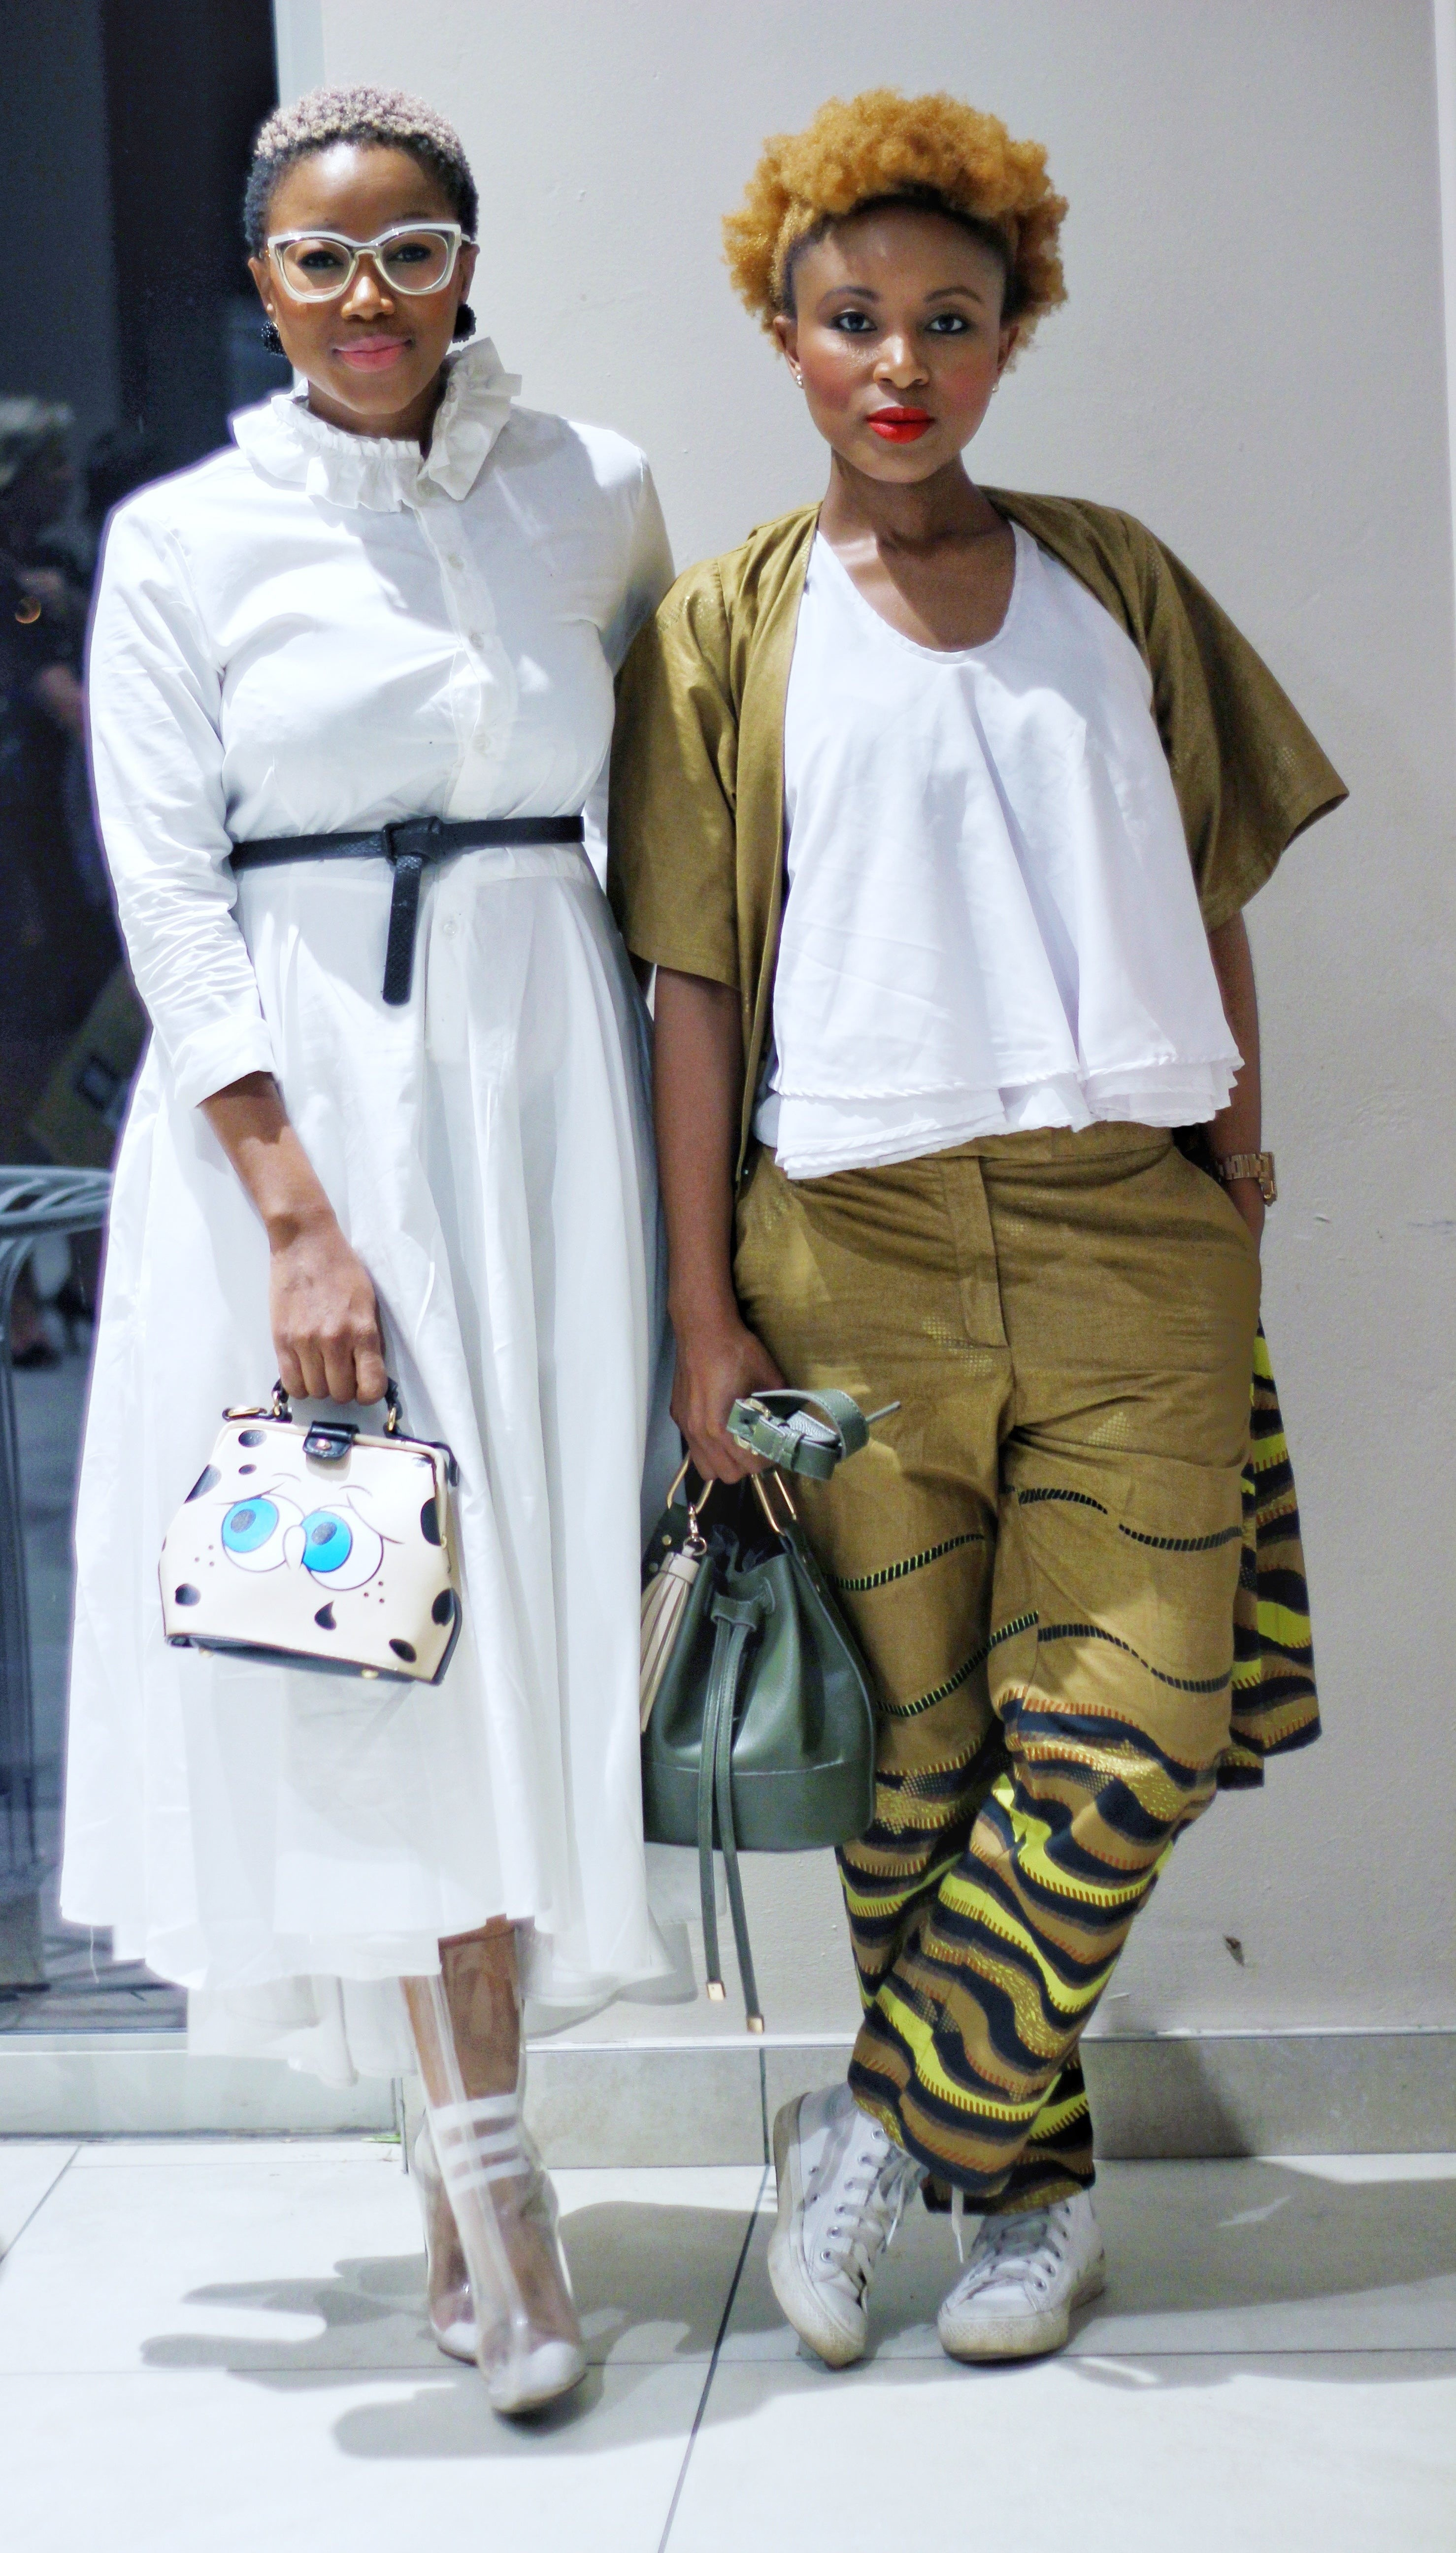face_no_mask: (742, 93, 1082, 487), (251, 112, 493, 424)
